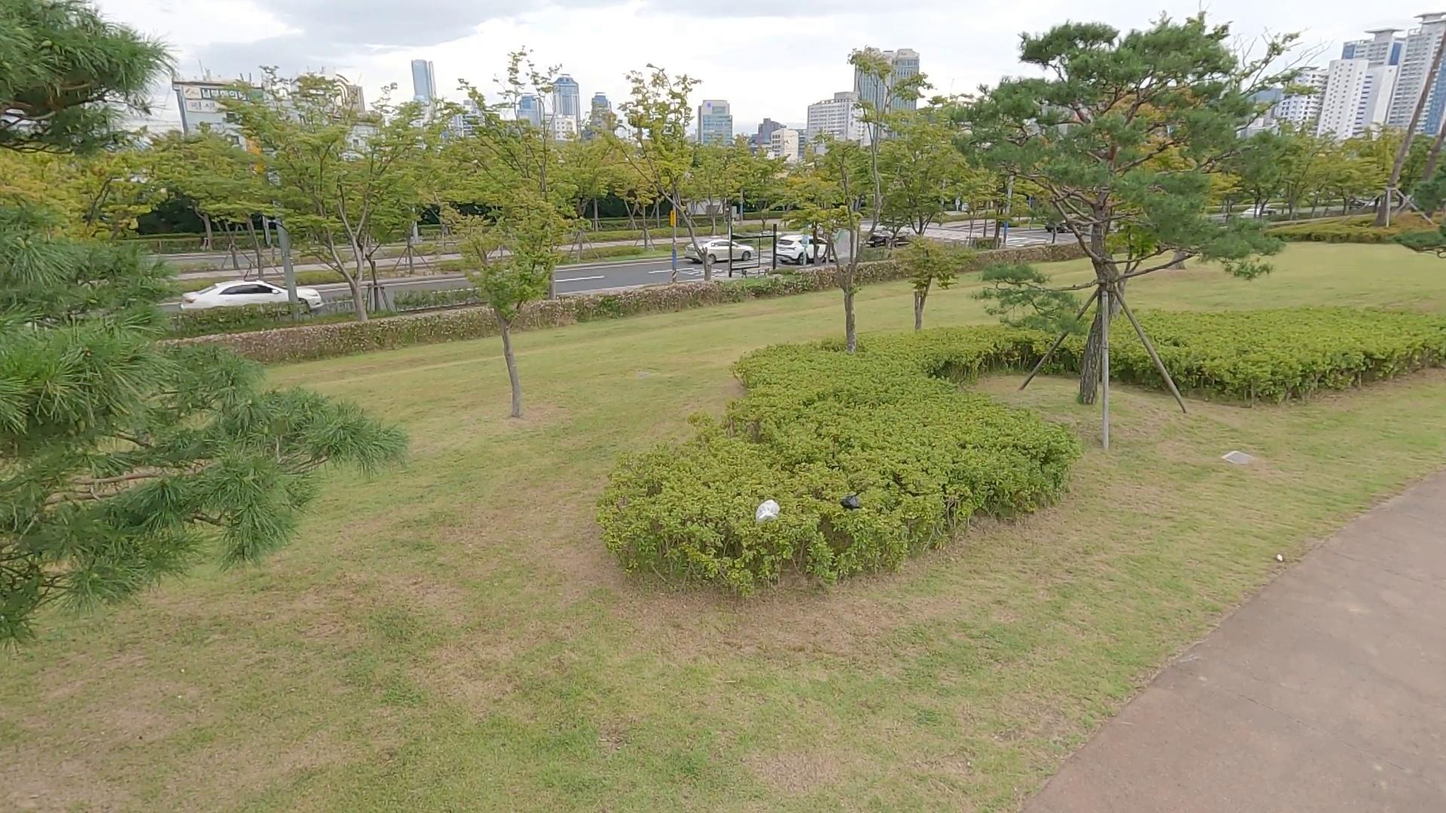trash: (748, 491, 788, 528), (836, 486, 865, 514)
